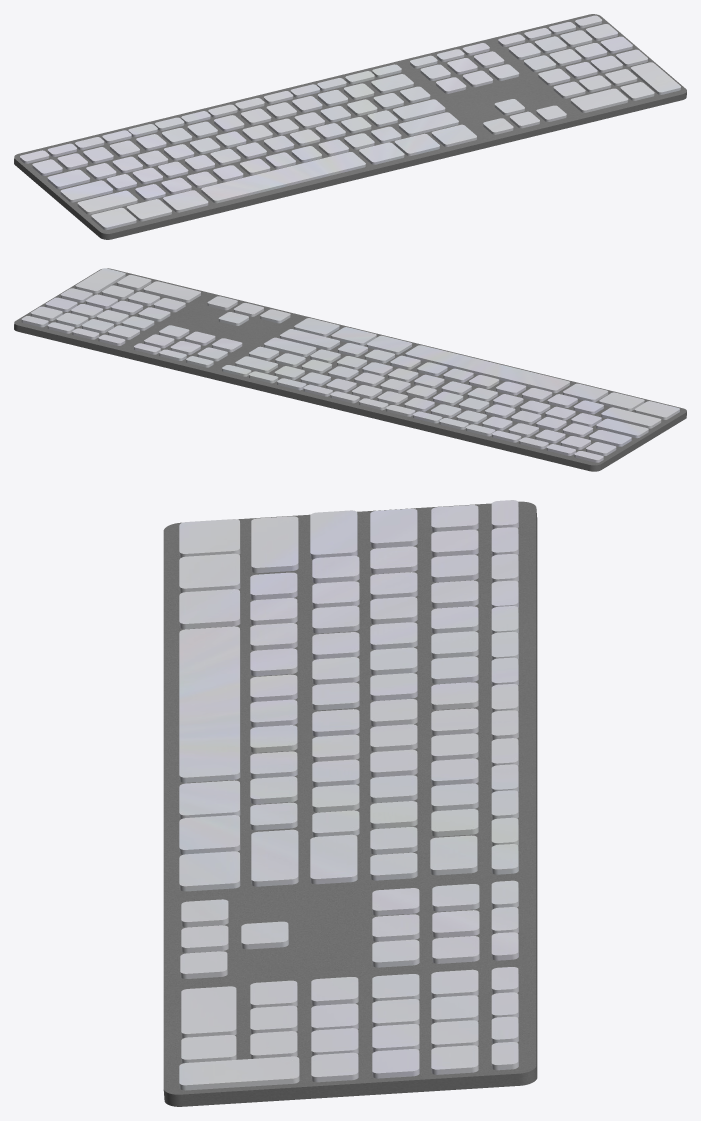
Rendered from computer_kb.fbx.
3 renders of one model, top to bottom at view 1: azimuth 30°, elevation 25°; view 2: azimuth 150°, elevation 25°; view 3: azimuth 270°, elevation 25°, orthographic. The views are drawn at different scales.
Parts seen in each view (by area): view 1: clavier_imac; view 2: clavier_imac; view 3: clavier_imac.
Boxes of the visible parts, x1,y1,x2,y2 form: clavier_imac: (14, 14, 686, 239); clavier_imac: (14, 268, 686, 471); clavier_imac: (163, 500, 537, 1106).
Bounding box in the file's own units: 0.4488 × 0.0144 × 0.124.
